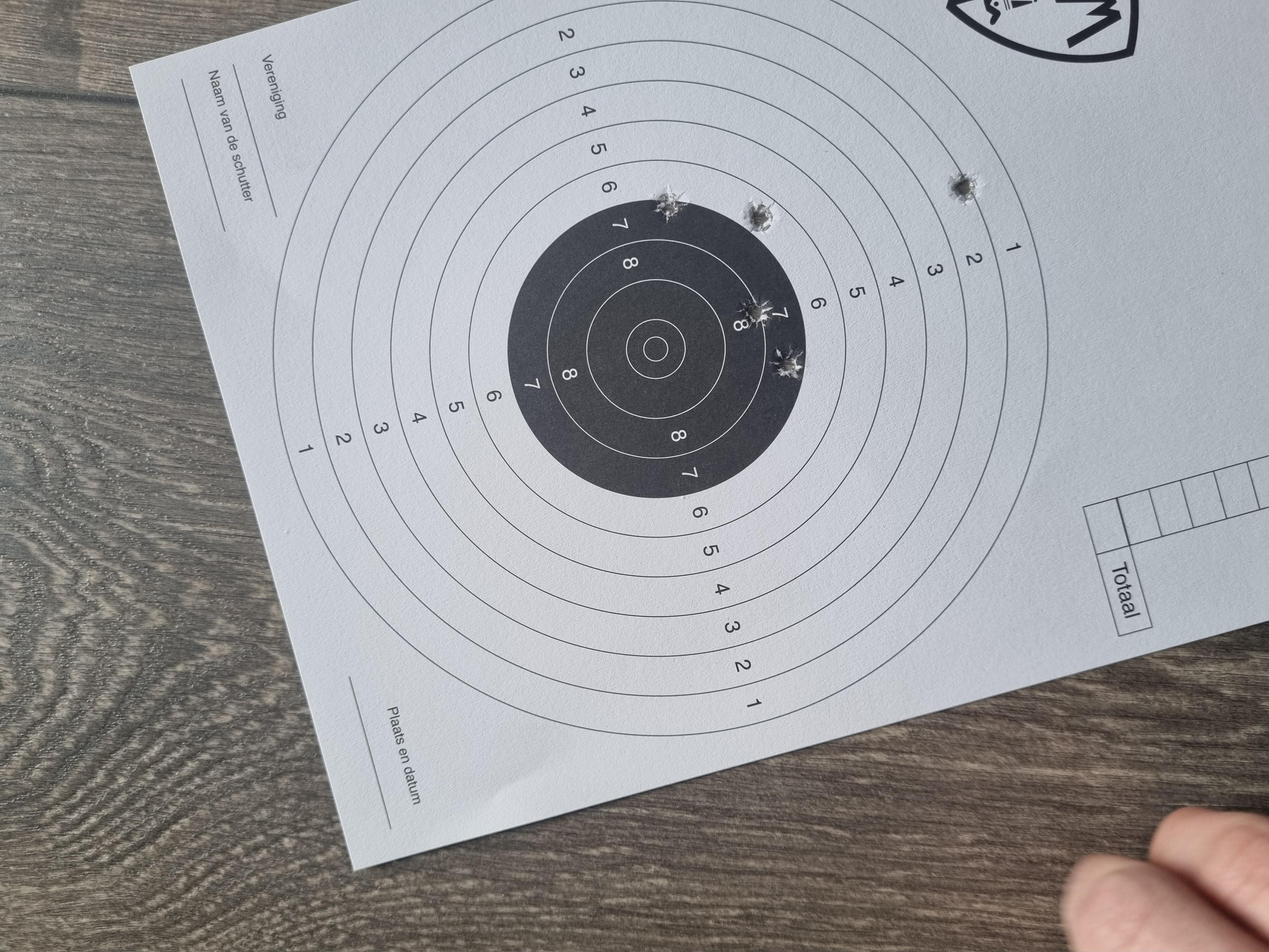hole: (762, 578, 807, 604), (830, 553, 872, 579), (971, 490, 1015, 514), (959, 558, 1001, 581), (995, 712, 1038, 734)
